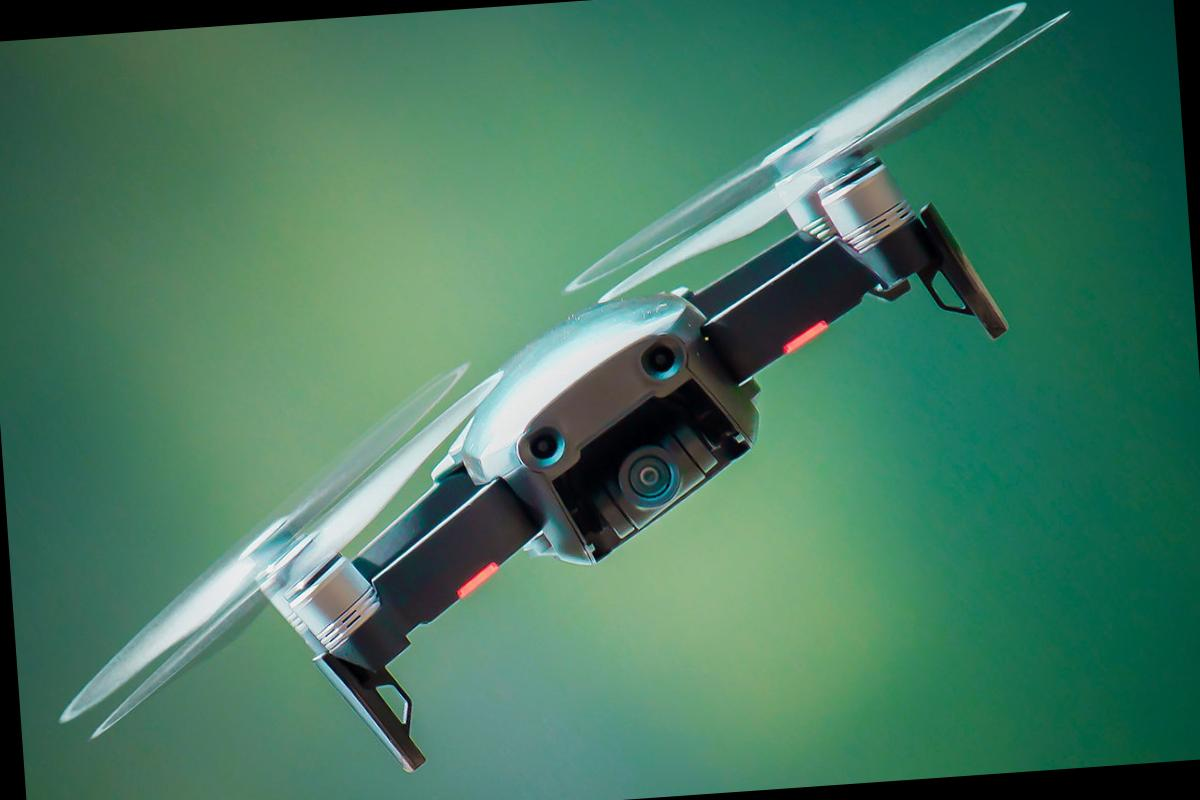drone: (0, 0, 1133, 800)
